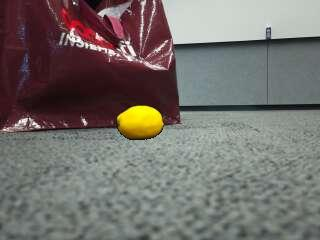lemon: (117, 105, 162, 139)
